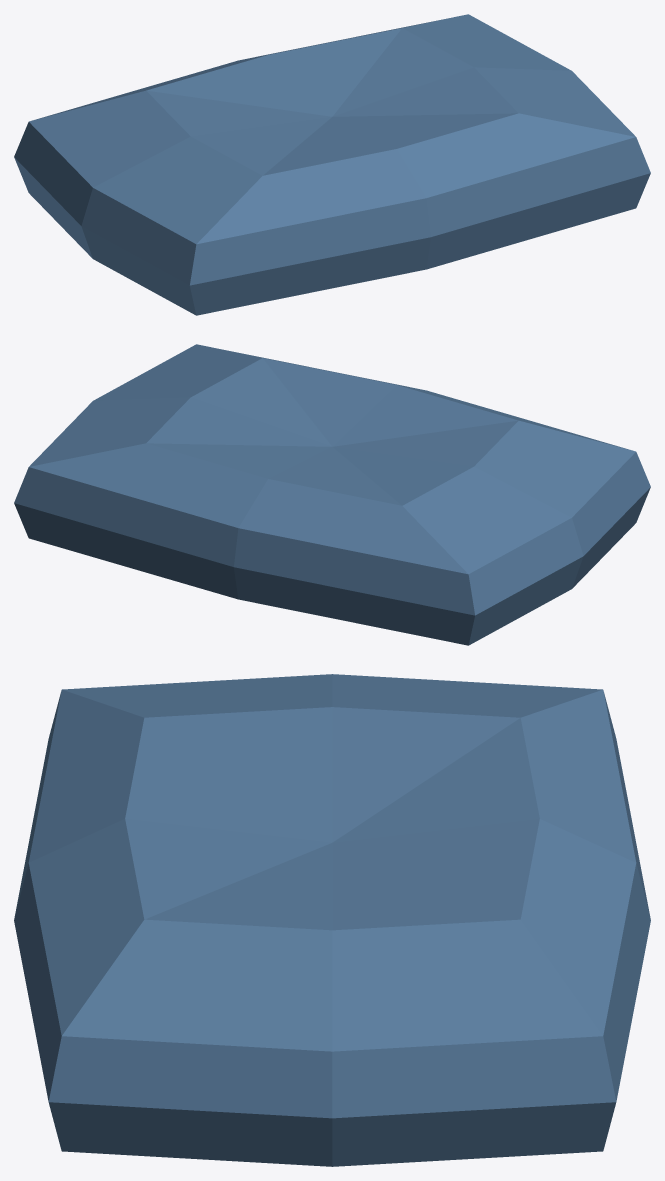
File: Itr_Bed_Pillow_04.FBX
The picture shows the model from 3 angles, top to bottom: view 1: azimuth 30°, elevation 25°; view 2: azimuth 150°, elevation 25°; view 3: azimuth 270°, elevation 25°; orthographic projection. The views are drawn at different scales.
Parts seen in each view (by area): view 1: Itr_Bed_Pillow_04; view 2: Itr_Bed_Pillow_04; view 3: Itr_Bed_Pillow_04.
Boxes of the visible parts, bbox=[...] form: Itr_Bed_Pillow_04: bbox=[14, 14, 650, 315]; Itr_Bed_Pillow_04: bbox=[14, 344, 650, 645]; Itr_Bed_Pillow_04: bbox=[14, 674, 650, 1166].
Bounding box in the file's own units: 21.39 × 4.02 × 14.55.
